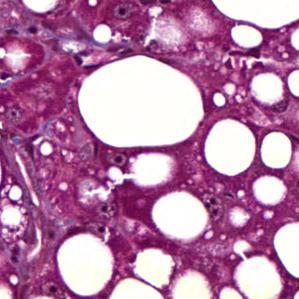steatosis: (77, 61, 204, 147), (58, 233, 116, 296), (151, 189, 210, 240), (207, 119, 258, 176)
